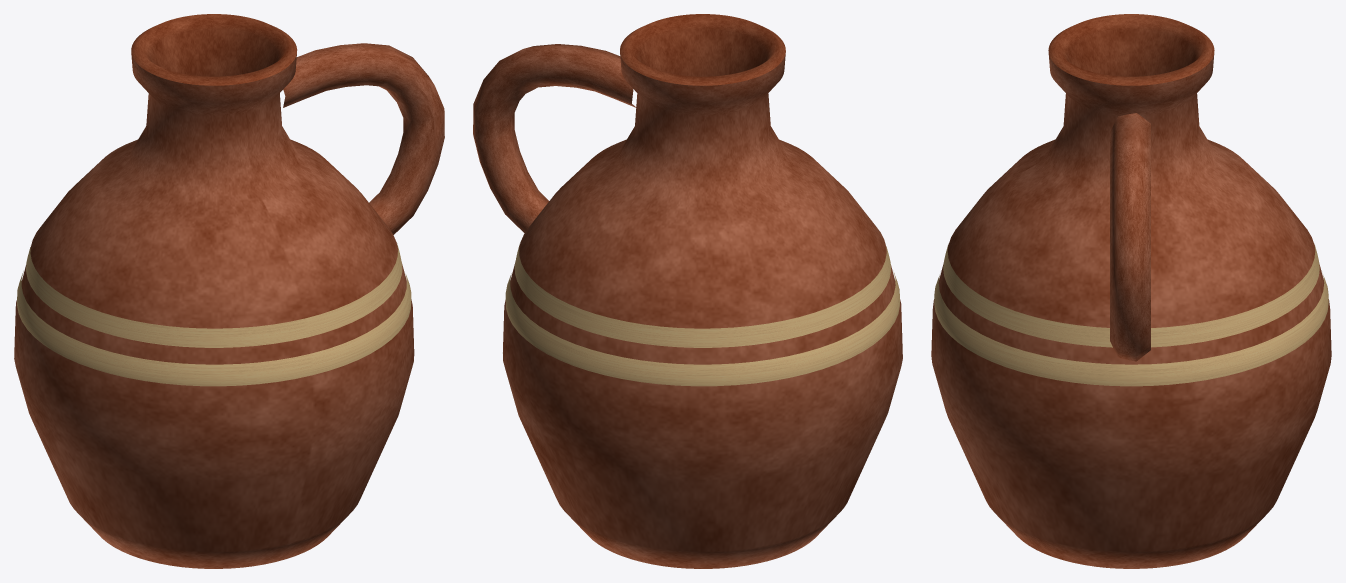
File: clay-jug.glb
The picture shows the model from 3 angles, left to right: view 1: azimuth 30°, elevation 25°; view 2: azimuth 150°, elevation 25°; view 3: azimuth 270°, elevation 25°; orthographic projection.
Parts seen in each view (by area): view 1: Terracotta jug with open mouth; view 2: Terracotta jug with open mouth; view 3: Terracotta jug with open mouth.
Part boxes in pixels (left/top/right/bottom): Terracotta jug with open mouth: left=14, top=14, right=444, bottom=568; Terracotta jug with open mouth: left=473, top=14, right=902, bottom=568; Terracotta jug with open mouth: left=931, top=14, right=1331, bottom=568.
Size of the model in its own units: 0.3121 by 0.351 by 0.27.
Materials: 3 (3 with a texture image).
